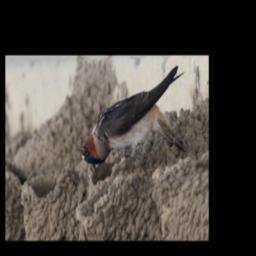Swallow: (74, 65, 188, 166)
